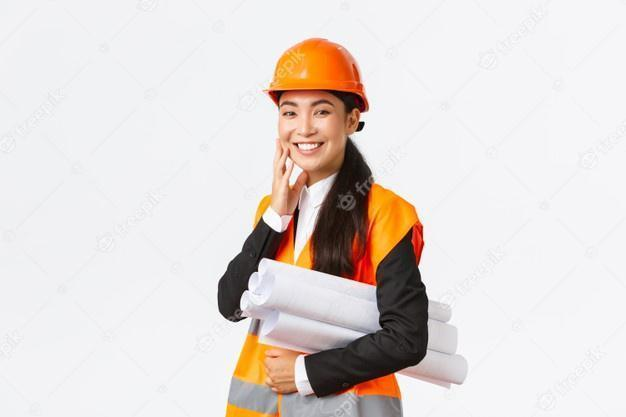helmet: (263, 38, 371, 111)
